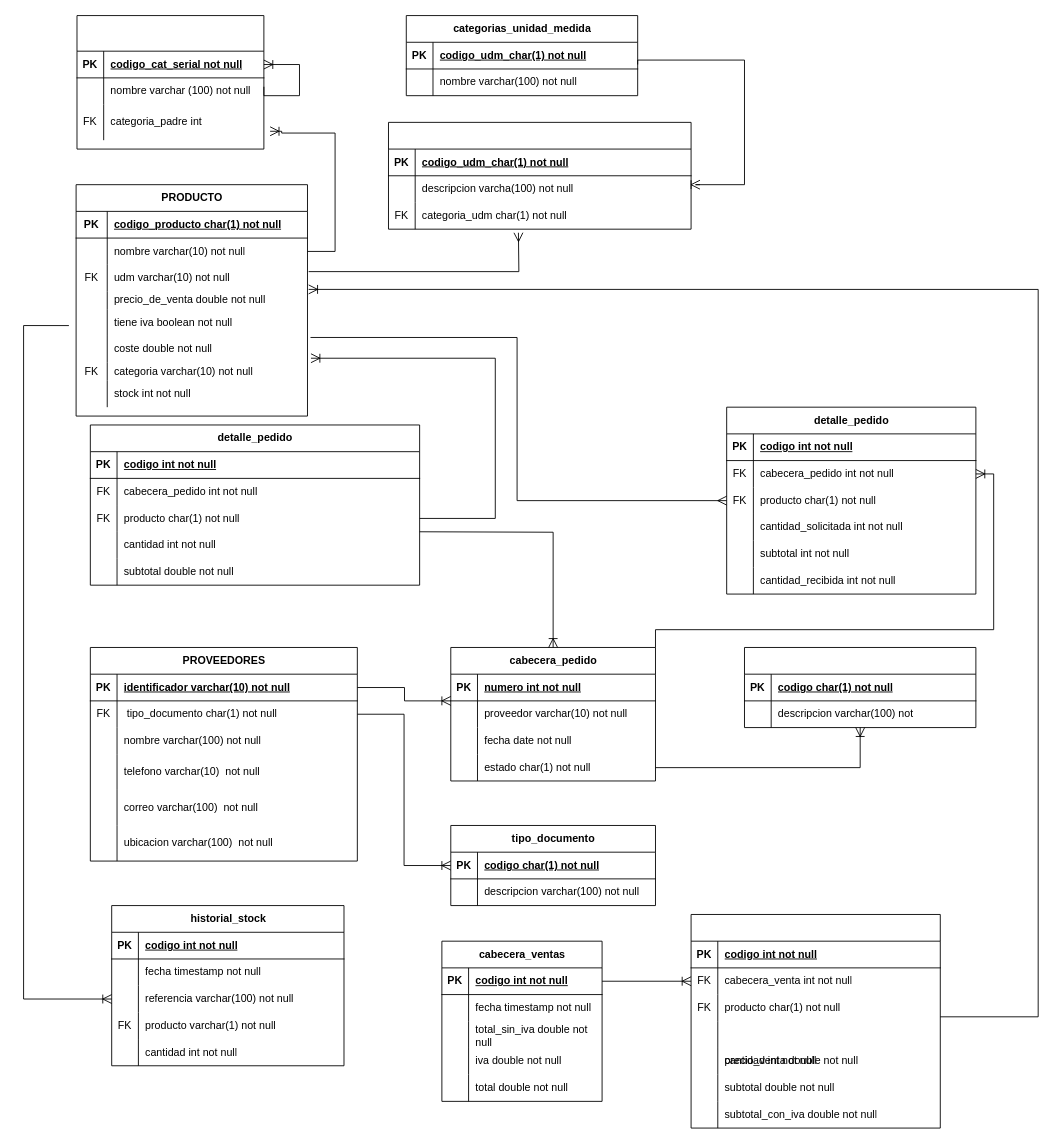
Some shapes in this 1063 by 1144 pixel diagram are drawn without their labels. The box of each missing label's shape, as (x1, y1, x2, y2) in pixels:
Categorias: (76, 15, 264, 149)
detalle_venta: (690, 914, 940, 1128)
Estado_pedido: (744, 647, 976, 728)
unidades_medida: (388, 121, 691, 229)
